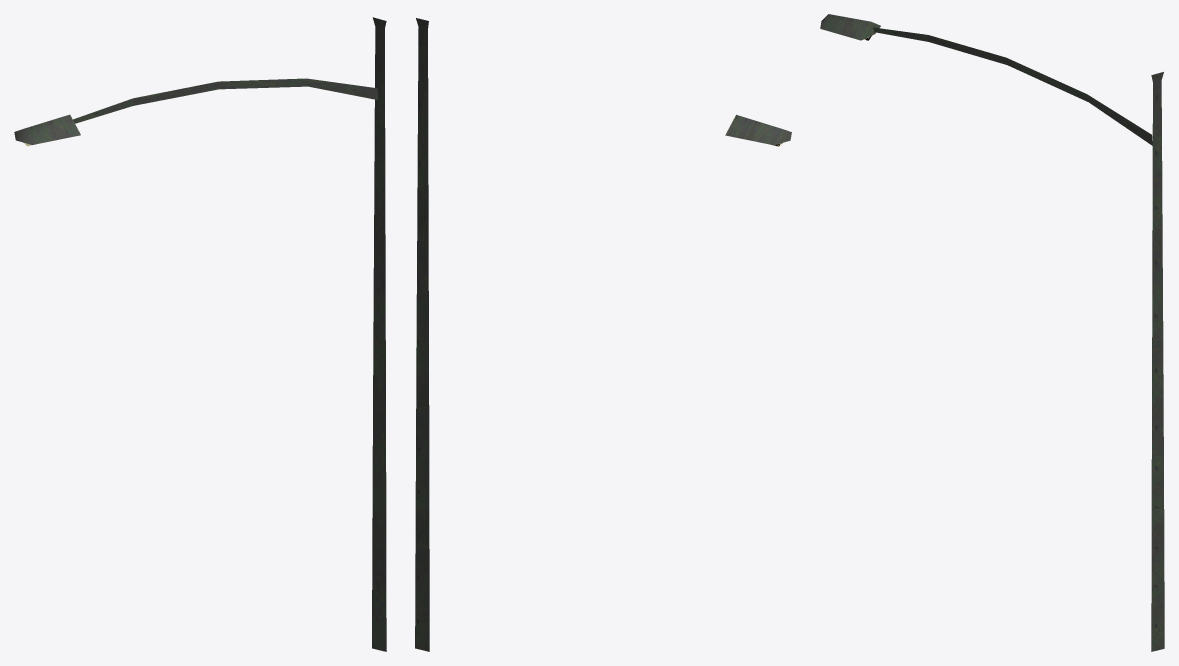
The model's file is lamp.glb.
The picture shows the model from 3 angles, left to right: view 1: azimuth 30°, elevation 25°; view 2: azimuth 150°, elevation 25°; view 3: azimuth 330°, elevation 25°; orthographic projection. The views are drawn at different scales.
Parts seen in each view (by area): view 1: XO_STREETLIGHTCB_1C_00; view 2: XO_STREETLIGHTCB_1C_00; view 3: XO_STREETLIGHTCB_1C_00.
Part boxes in pixels (bbox=[...]): XO_STREETLIGHTCB_1C_00: bbox=[14, 17, 386, 651]; XO_STREETLIGHTCB_1C_00: bbox=[415, 18, 791, 651]; XO_STREETLIGHTCB_1C_00: bbox=[820, 14, 1164, 651].
Bounding box in the file's own units: 6.6 × 10.67 × 0.6764.
2 materials, 2 textured.
